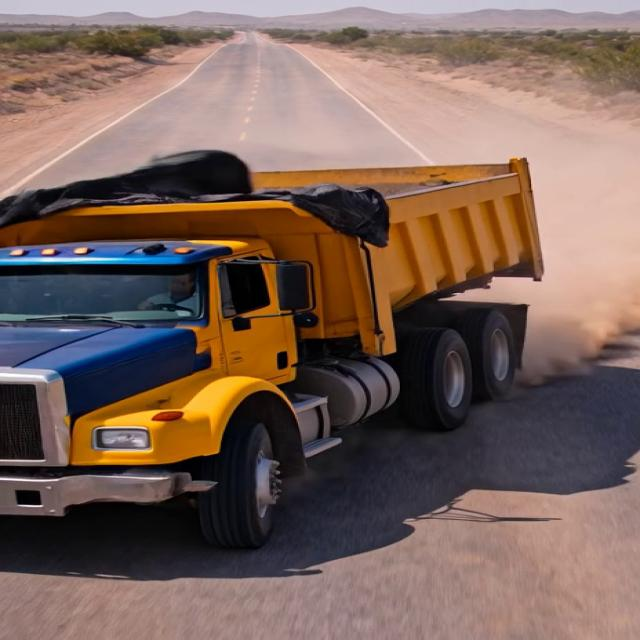trailer: (0, 141, 521, 245)
truck: (0, 112, 569, 540)
